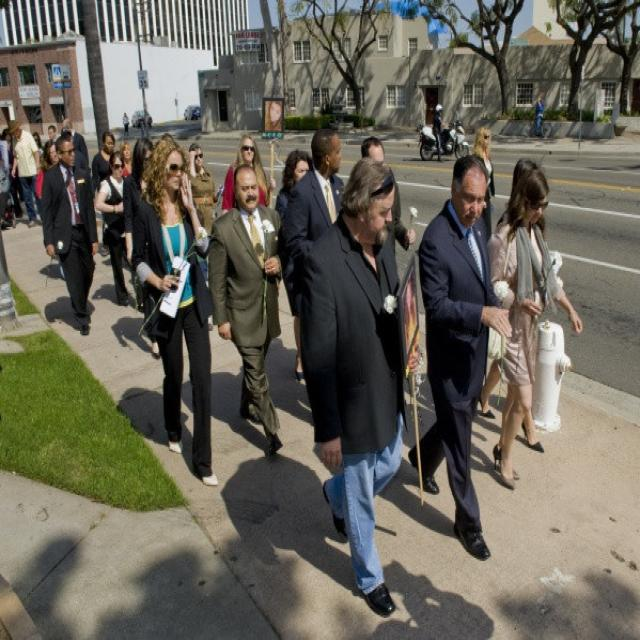body: (297, 152, 415, 620), (405, 148, 514, 562), (481, 145, 585, 496), (127, 128, 222, 489), (205, 160, 293, 458), (476, 154, 545, 455), (36, 130, 98, 340), (273, 148, 314, 389), (122, 136, 162, 360), (282, 129, 348, 259), (359, 135, 415, 259), (92, 146, 132, 308), (186, 140, 225, 282), (221, 133, 278, 218), (5, 117, 44, 230), (90, 129, 116, 259), (471, 124, 496, 244), (3, 129, 27, 220), (34, 136, 62, 208), (397, 274, 420, 354), (59, 117, 90, 169), (60, 127, 92, 176), (31, 120, 47, 208), (430, 100, 448, 164), (261, 95, 285, 136), (0, 133, 9, 230), (532, 89, 546, 138), (118, 139, 134, 180), (47, 123, 57, 142), (122, 110, 130, 132), (159, 130, 174, 141)
